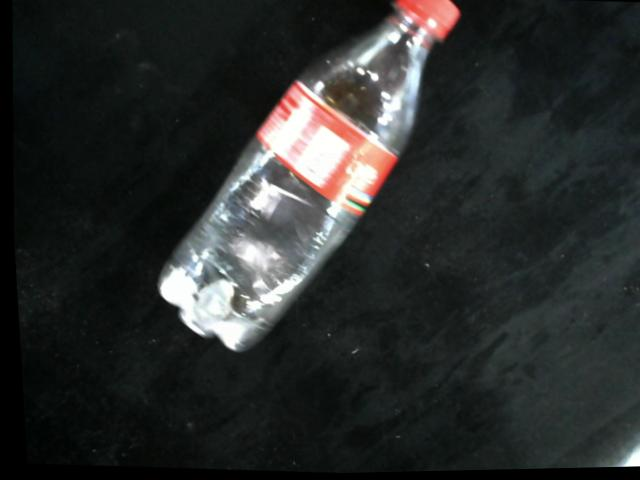bottle: (153, 0, 462, 354)
